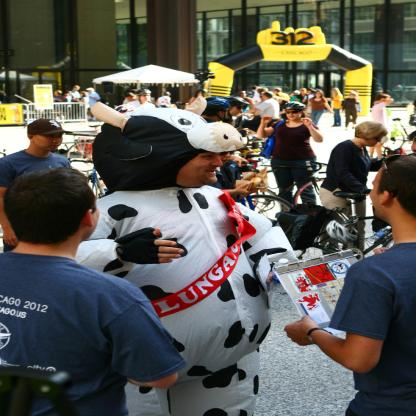Helmet: (349, 120, 391, 149), (198, 94, 230, 124), (282, 98, 309, 122), (224, 98, 249, 116), (158, 94, 177, 108), (134, 89, 150, 102)
